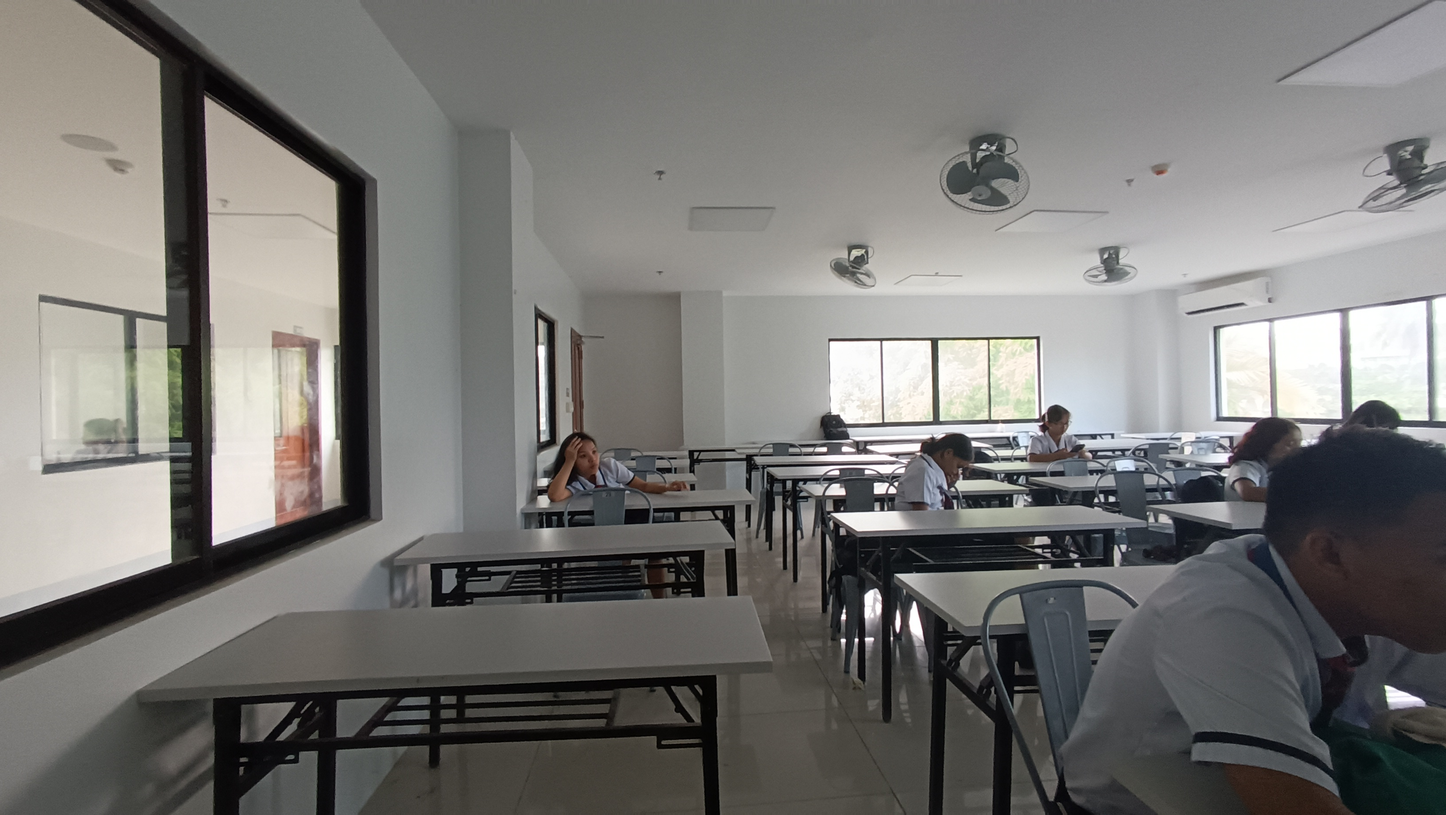with-student: (829, 429, 1148, 557), (1141, 416, 1347, 539), (519, 427, 757, 520), (965, 404, 1157, 478)
